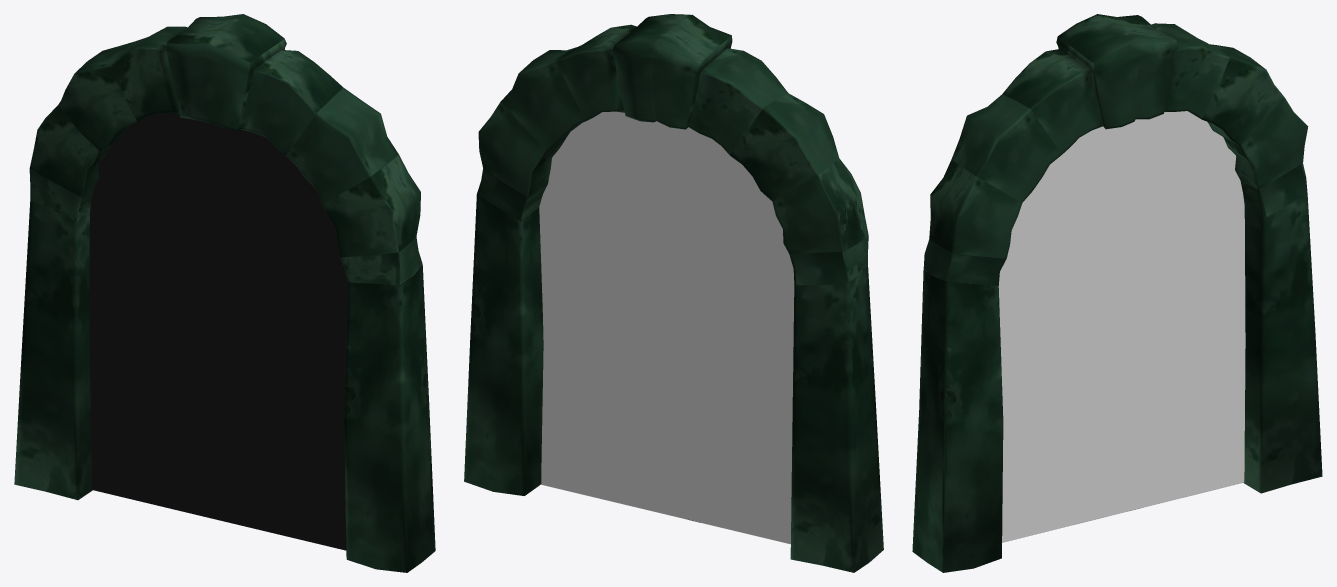
The model's file is RightDoor-transformed.glb.
3 renders of one model, left to right at view 1: azimuth 30°, elevation 25°; view 2: azimuth 210°, elevation 25°; view 3: azimuth 270°, elevation 25°, orthographic.
Visible parts, largest first — view 1: Retopo_Circle.003, StoneGateway.002; view 2: Retopo_Circle.003, StoneGateway.002; view 3: Retopo_Circle.003, StoneGateway.002.
Part boxes in pixels (x1,y1,x2,y2): Retopo_Circle.003: (89,113,348,550); StoneGateway.002: (14,14,435,572); Retopo_Circle.003: (539,111,794,544); StoneGateway.002: (464,14,883,572); Retopo_Circle.003: (966,111,1245,542); StoneGateway.002: (912,14,1322,572).
Bounding box in the file's own units: 2.08 × 3.98 × 3.01.
Materials: 3 (3 with a texture image).
